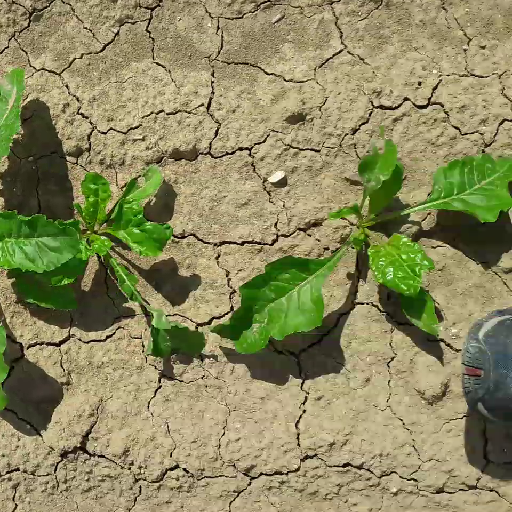sugarbeet: (209, 127, 512, 361), (1, 162, 204, 360)
